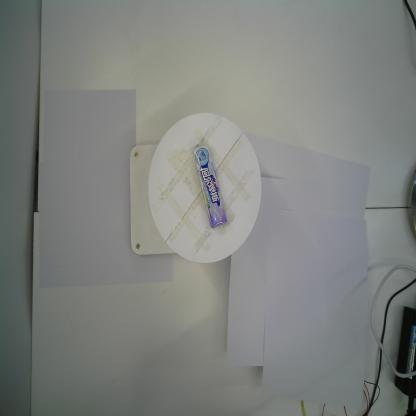Candy: (192, 144, 228, 230)
